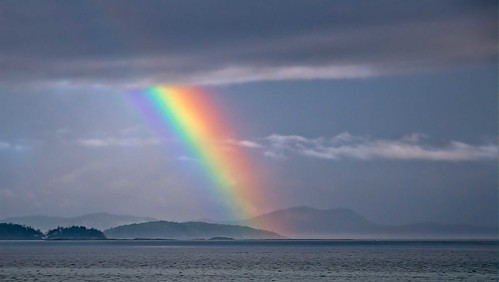mountain: (49, 200, 394, 251)
rainbow: (136, 84, 270, 248)
sea: (4, 239, 499, 282)
sky: (8, 1, 499, 209)
